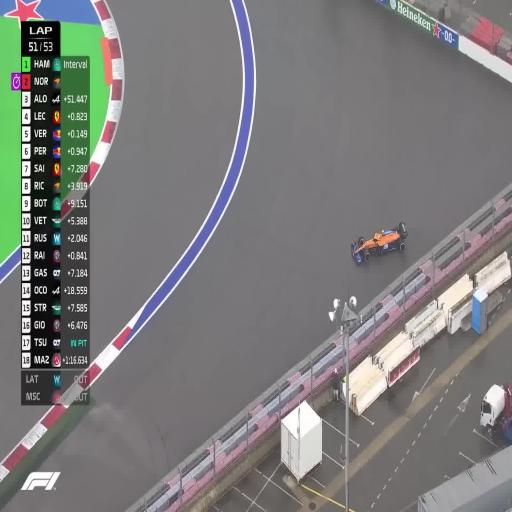f1_car: (351, 221, 407, 263)
